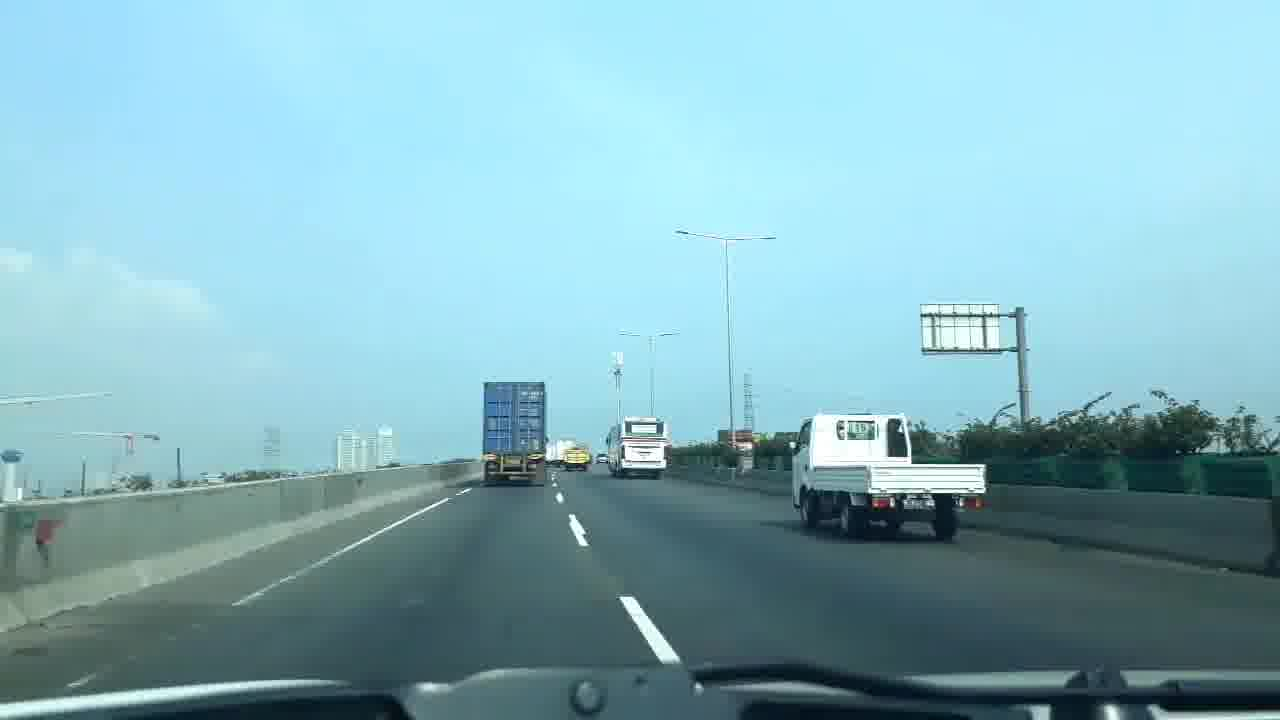plate_positive: (903, 498, 936, 511)
